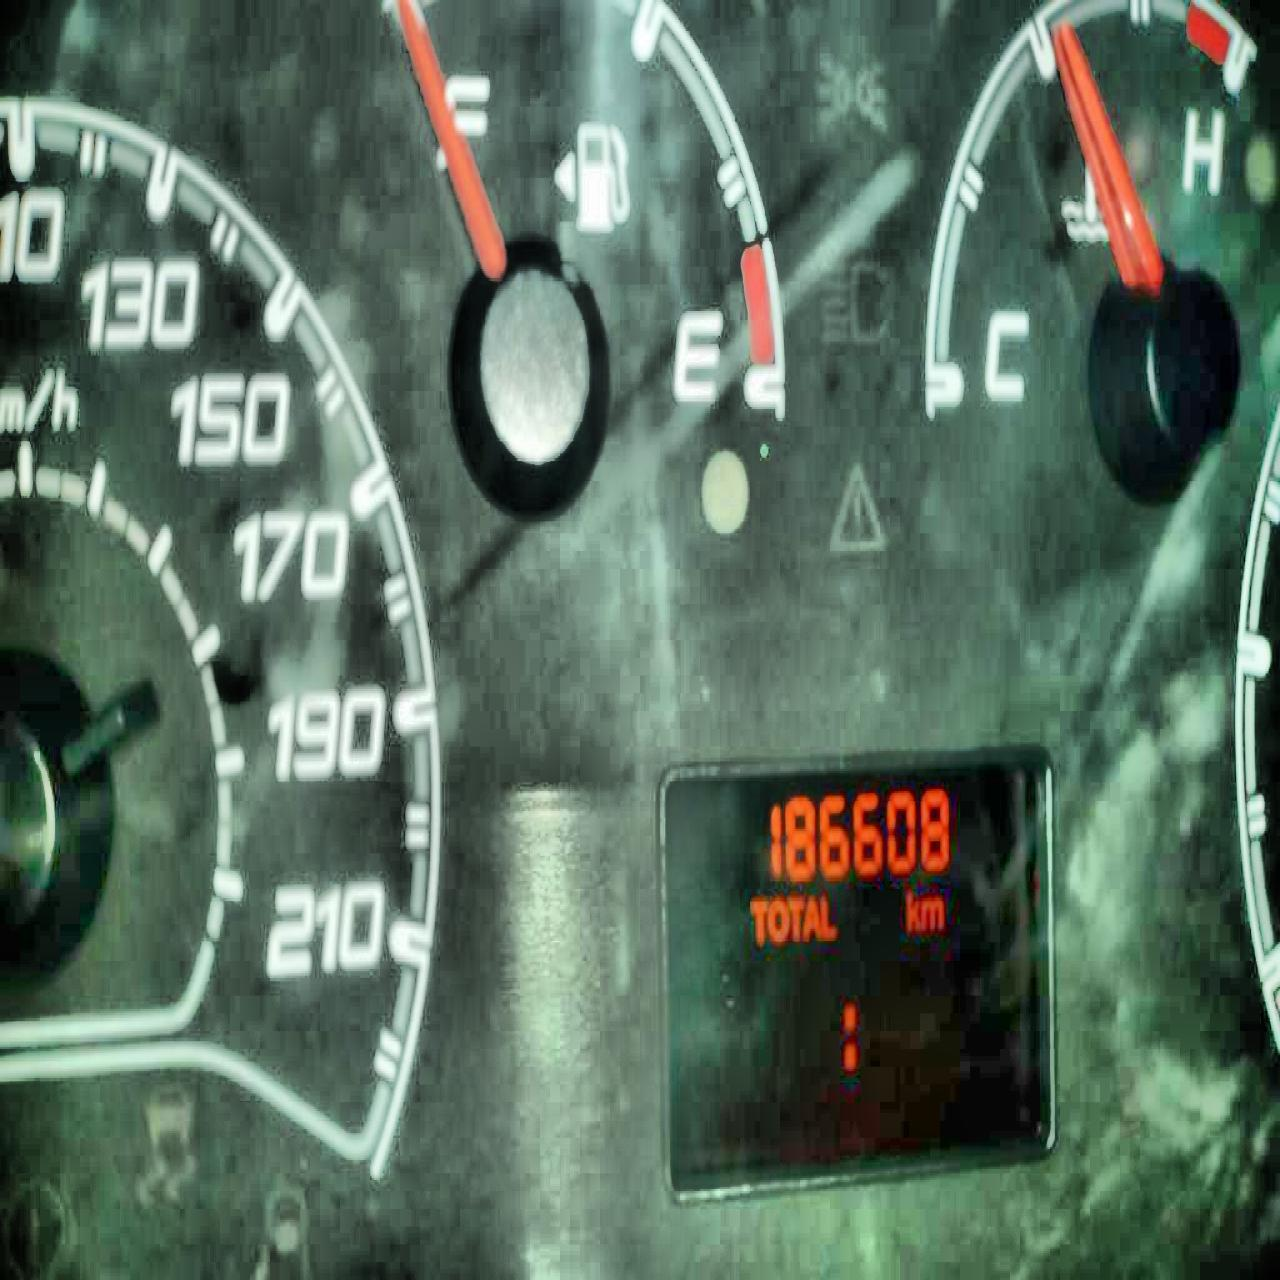0: (884, 787, 917, 873)
1: (767, 796, 784, 876)
6: (816, 791, 849, 878), (851, 787, 883, 876)
8: (784, 789, 815, 880), (919, 784, 949, 869)
X: (840, 995, 859, 1069), (768, 893, 788, 942), (920, 891, 944, 931), (749, 893, 768, 942), (818, 891, 836, 942), (787, 893, 803, 942), (904, 881, 920, 931), (803, 891, 818, 942)
odometer: (652, 736, 1058, 1203)
